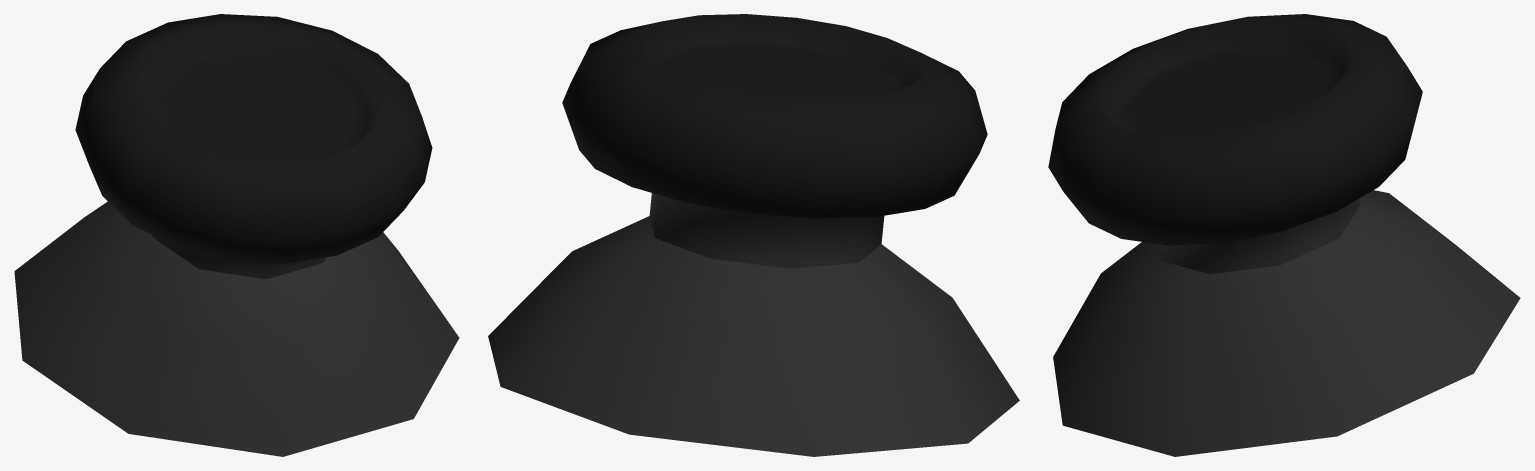
File: oculus_quest_controller_right_joystick.obj
The picture shows the model from 3 angles, left to right: view 1: azimuth 30°, elevation 25°; view 2: azimuth 150°, elevation 25°; view 3: azimuth 270°, elevation 25°; orthographic projection. The views are drawn at different scales.
Size of the model in its own units: 0.0168 by 0.0129 by 0.0166.
